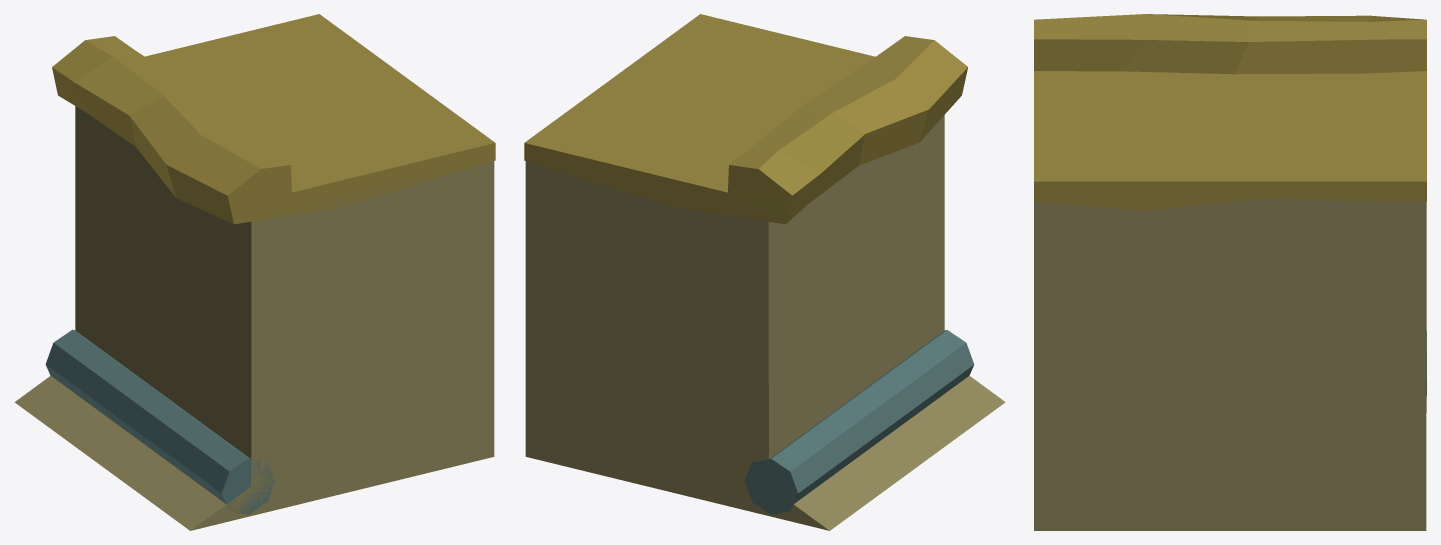
Rendered from Int_25_Block_R.fbx.
3 views of the same model, side by side, from view 1: azimuth 30°, elevation 25°; view 2: azimuth 150°, elevation 25°; view 3: azimuth 270°, elevation 25° (orthographic). The views are drawn at different scales.
Visible parts, largest first — view 1: Int_25_Block_R; view 2: Int_25_Block_R; view 3: Int_25_Block_R.
Part boxes in pixels (x1,y1,x2,y2): Int_25_Block_R: (14,14,495,530); Int_25_Block_R: (524,14,1005,530); Int_25_Block_R: (1034,14,1426,530).
Size of the model in its own units: 0.9997 by 1.08 by 0.999.
